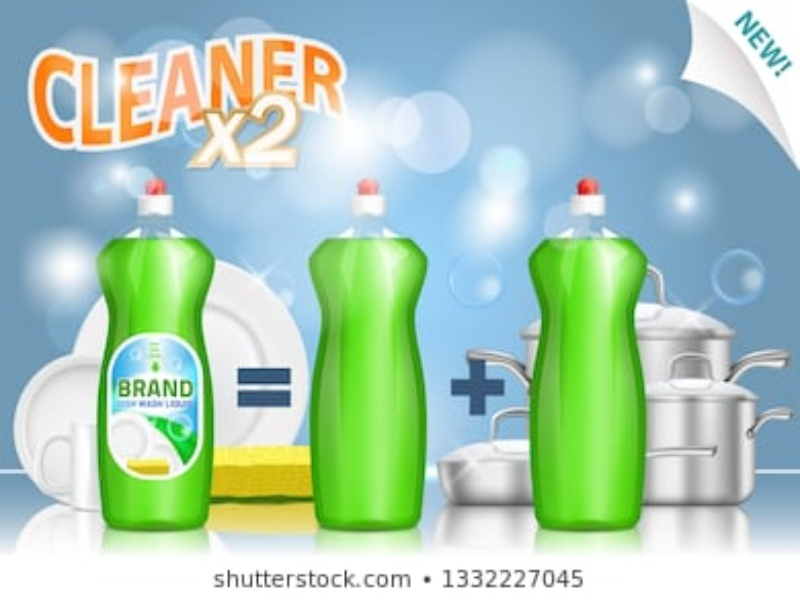detergent-bottle: (521, 174, 651, 535), (308, 177, 428, 531), (98, 175, 213, 533)
